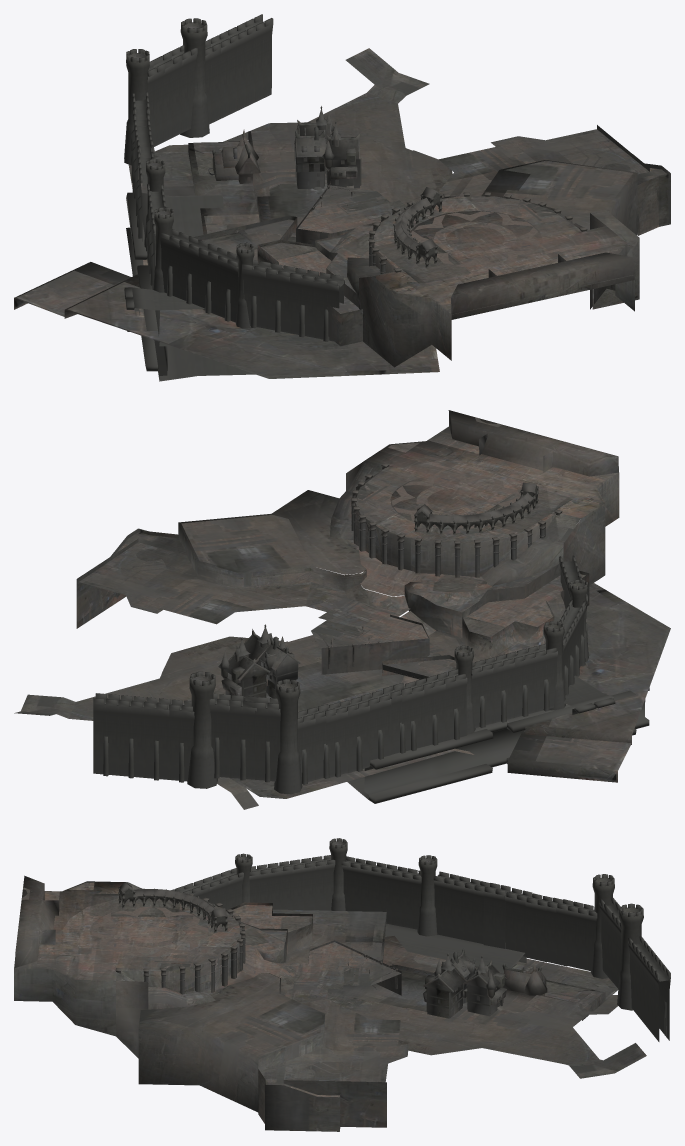
The picture shows the model from 3 angles, top to bottom: view 1: azimuth 30°, elevation 25°; view 2: azimuth 150°, elevation 25°; view 3: azimuth 270°, elevation 25°; orthographic projection. The views are drawn at different scales.
Visible parts, largest first — view 1: nt:*ObjectIndoorScene_Md_KnightOutDoor_MD_CityArea_MdBu_9abd; view 2: nt:*ObjectIndoorScene_Md_KnightOutDoor_MD_CityArea_MdBu_9abd; view 3: nt:*ObjectIndoorScene_Md_KnightOutDoor_MD_CityArea_MdBu_9abd.
Part boxes in pixels (x1,y1,x2,y2): nt:*ObjectIndoorScene_Md_KnightOutDoor_MD_CityArea_MdBu_9abd: [14, 14, 670, 381]; nt:*ObjectIndoorScene_Md_KnightOutDoor_MD_CityArea_MdBu_9abd: [14, 410, 670, 809]; nt:*ObjectIndoorScene_Md_KnightOutDoor_MD_CityArea_MdBu_9abd: [14, 838, 670, 1131].
Size of the model in its own units: 181 by 44.89 by 200.
1 material, 1 textured.
